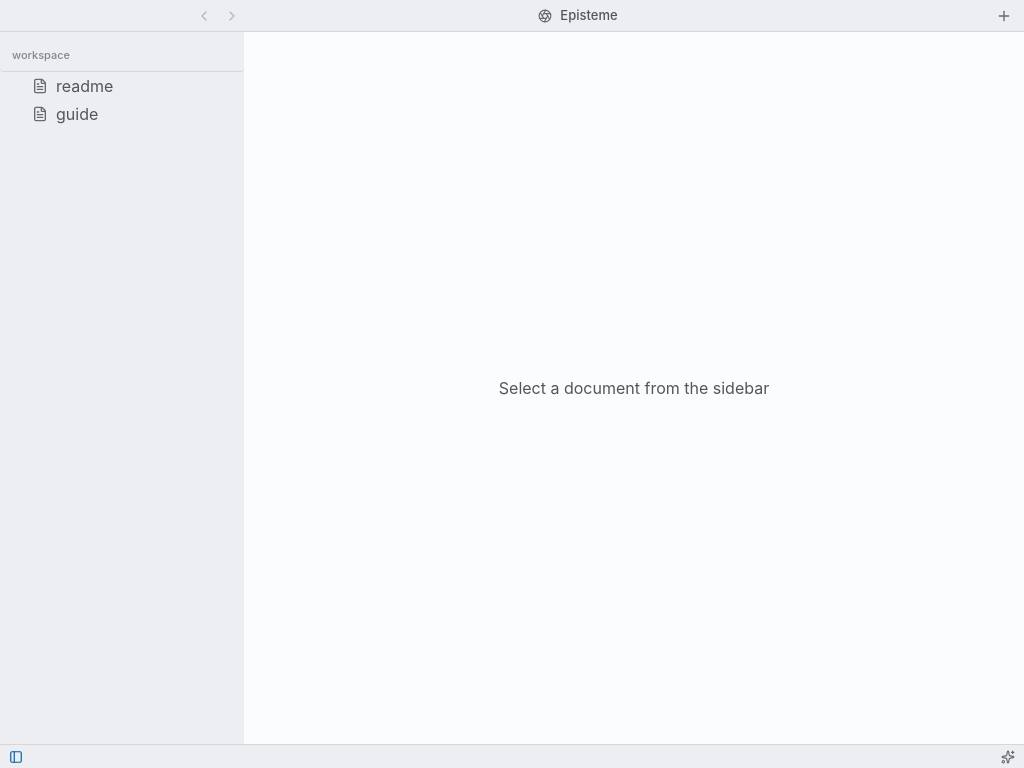
it: Document viewer integration › switching files updates the viewer
# Click first file
Click the list item "readme": [122, 86] box [0, 72, 244, 100]
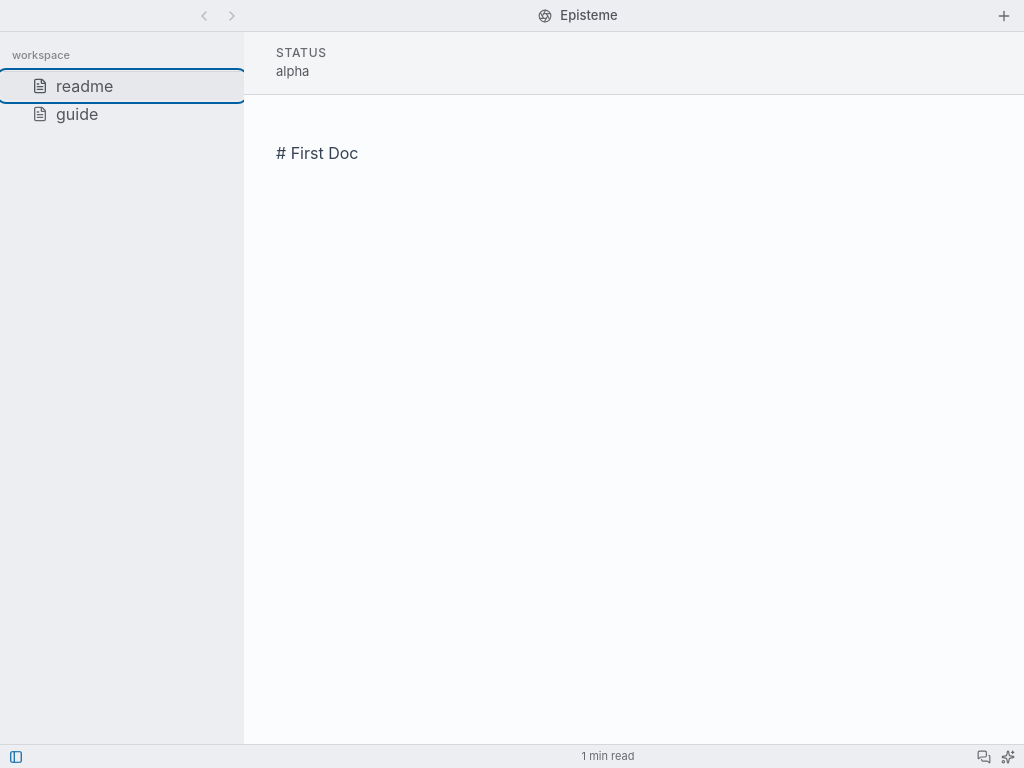
Expected: the text "alpha" is shown, [276, 63, 309, 79]
# Click second file
Click the list item "guide": [122, 114] box [0, 100, 244, 128]
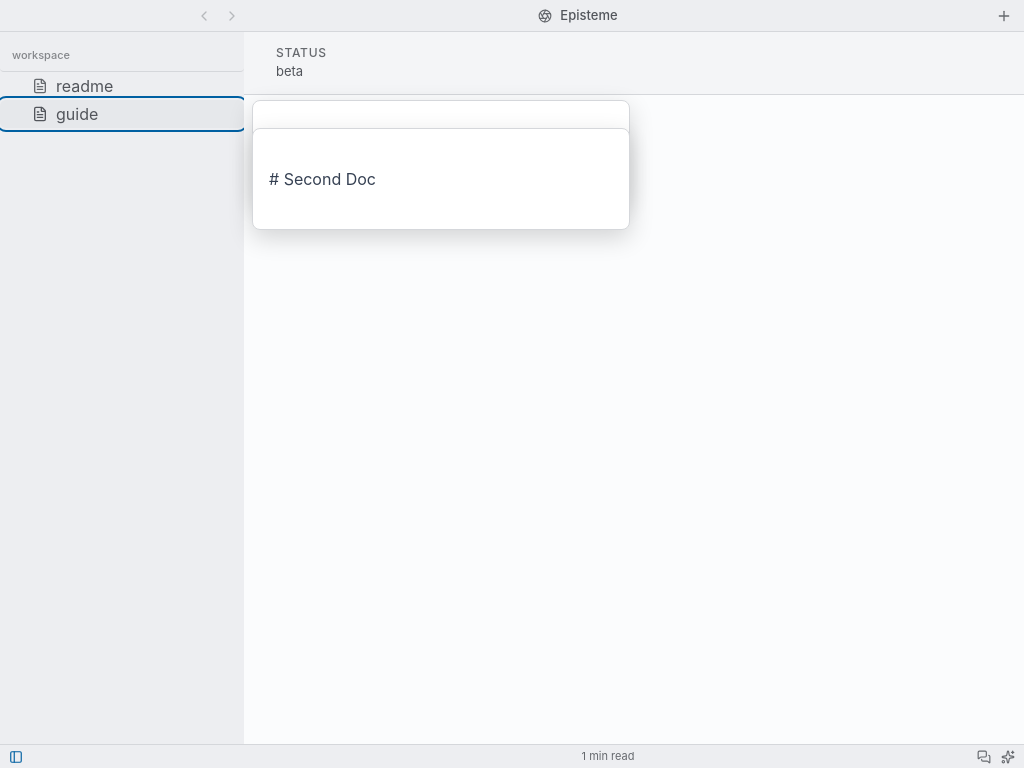
Expected: the text "beta" is shown, [276, 63, 303, 79]
